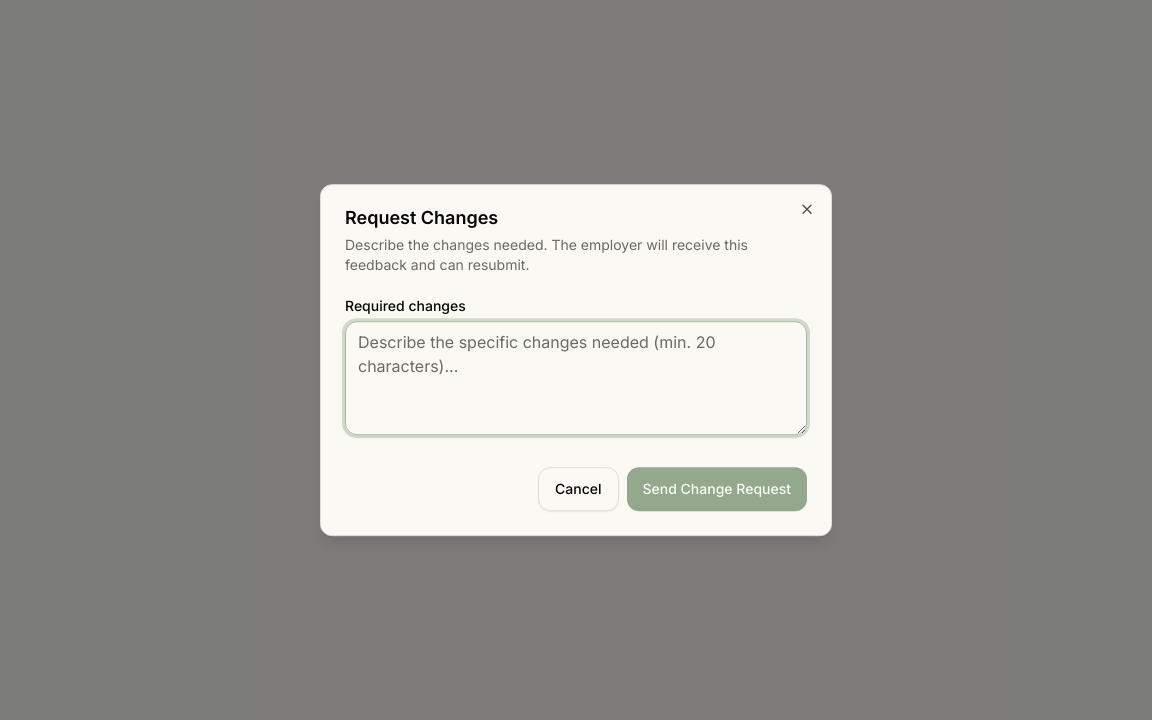
Test: RequestChangesModal › submit button is enabled when feedback >= 20 chars
Type "Please add more detail to the job description." into the text box with test id "request-changes-textarea". click: (576, 378)
box: [345, 321, 807, 435]
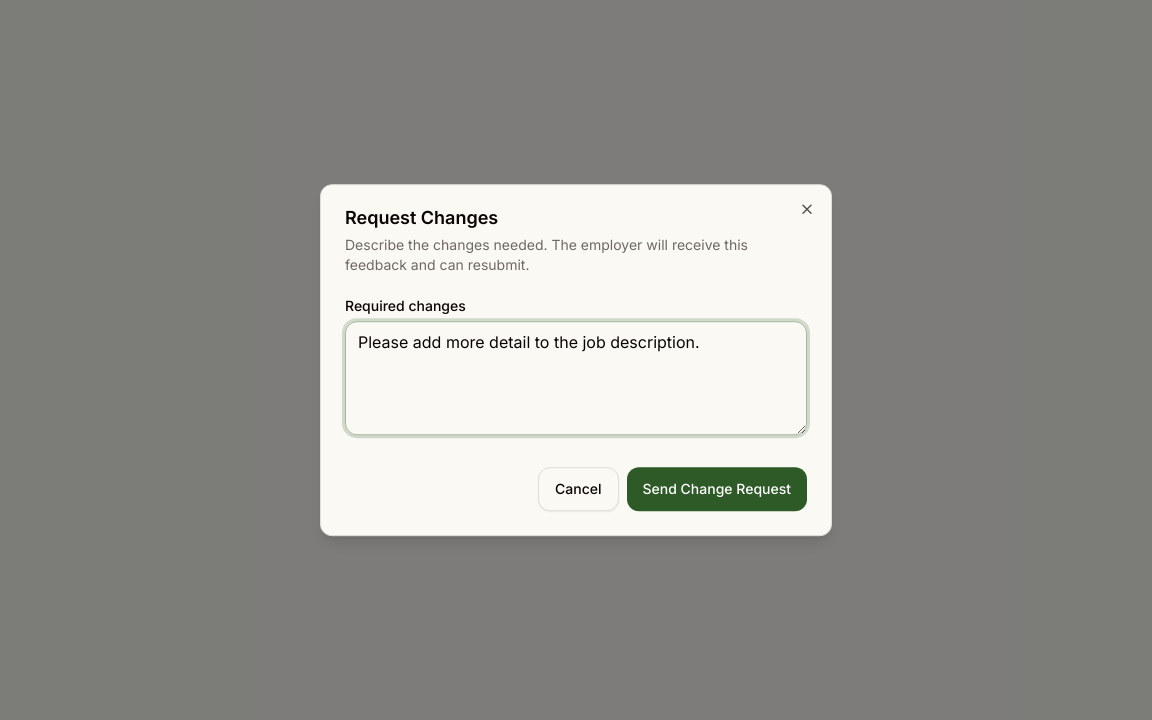
Check: the button with test id "request-changes-submit" is enabled, box [626, 467, 807, 511]
